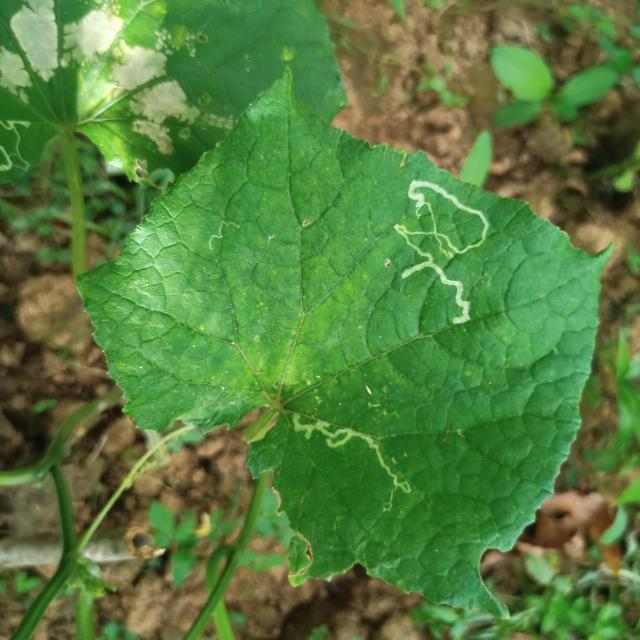disease_cucumber: (3, 4, 215, 151)
